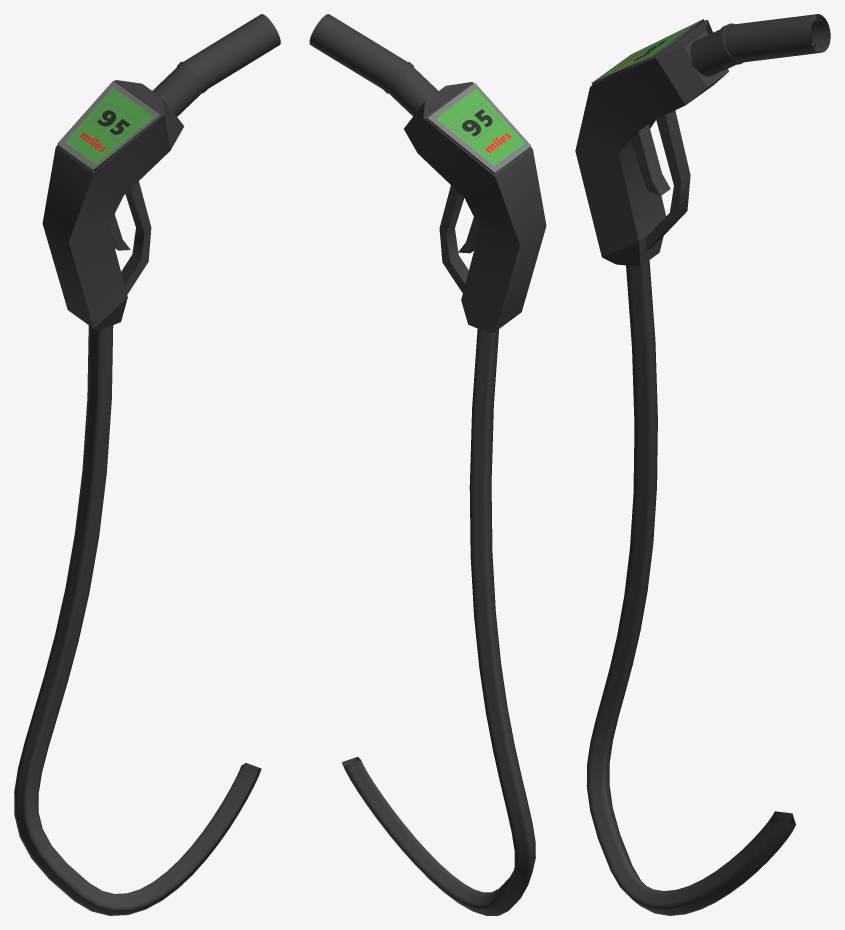
The model's file is pompe95.glb.
The picture shows the model from 3 angles, left to right: view 1: azimuth 30°, elevation 25°; view 2: azimuth 150°, elevation 25°; view 3: azimuth 330°, elevation 25°; orthographic projection. The views are drawn at different scales.
Visible parts, largest first — view 1: Cube.030_Material.022_0.001, Cube.030_LPG_0.001; view 2: Cube.030_Material.022_0.001, Cube.030_LPG_0.001; view 3: Cube.030_Material.022_0.001, Cube.030_LPG_0.001.
Part boxes in pixels (x1,y1,x2,y2): Cube.030_Material.022_0.001: [14, 14, 280, 915]; Cube.030_LPG_0.001: [57, 81, 159, 169]; Cube.030_Material.022_0.001: [309, 14, 546, 915]; Cube.030_LPG_0.001: [428, 83, 530, 172]; Cube.030_Material.022_0.001: [575, 14, 830, 915]; Cube.030_LPG_0.001: [592, 19, 702, 82].
Bounding box in the file's own units: 0.4034 × 1.39 × 0.1467.
Materials: 2 (1 with a texture image).
